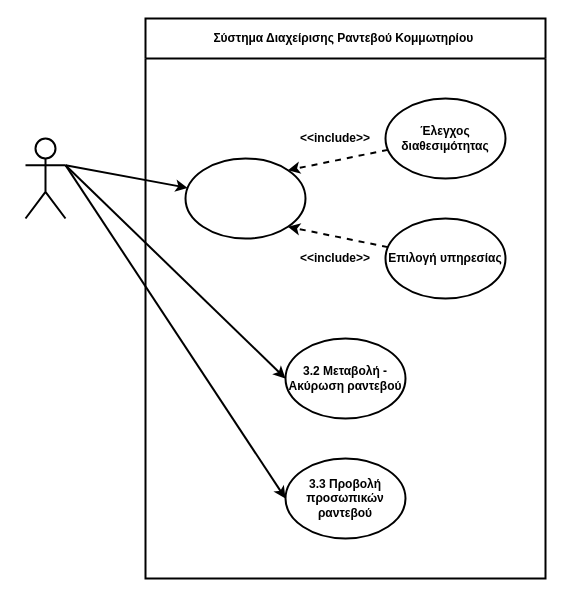
Some shapes in this 563 by 596 pixel diagram are drawn without their labels. The shapes that lost their labels are listed below. From the top down, each one's box as (x1, y1, x2, y2) in pixels, then its label:
(24, 137, 66, 219): Customer
(184, 157, 306, 239): 3.1 Κράτηση ραντεβού
